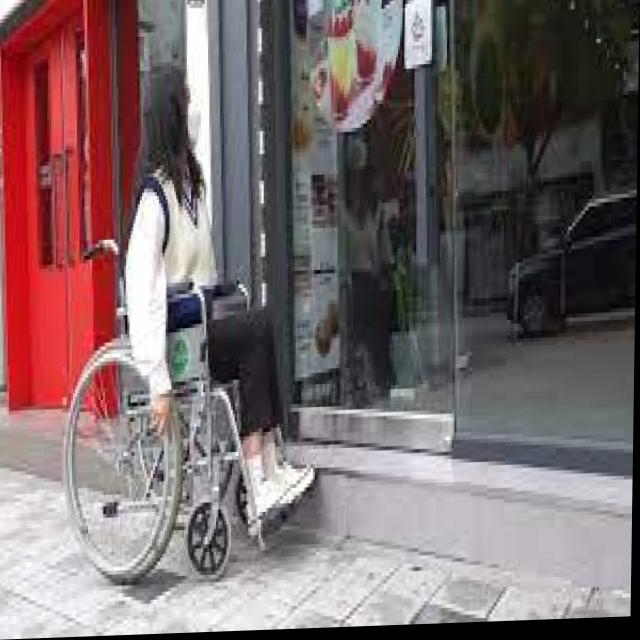wheelchair: (67, 58, 319, 579)
